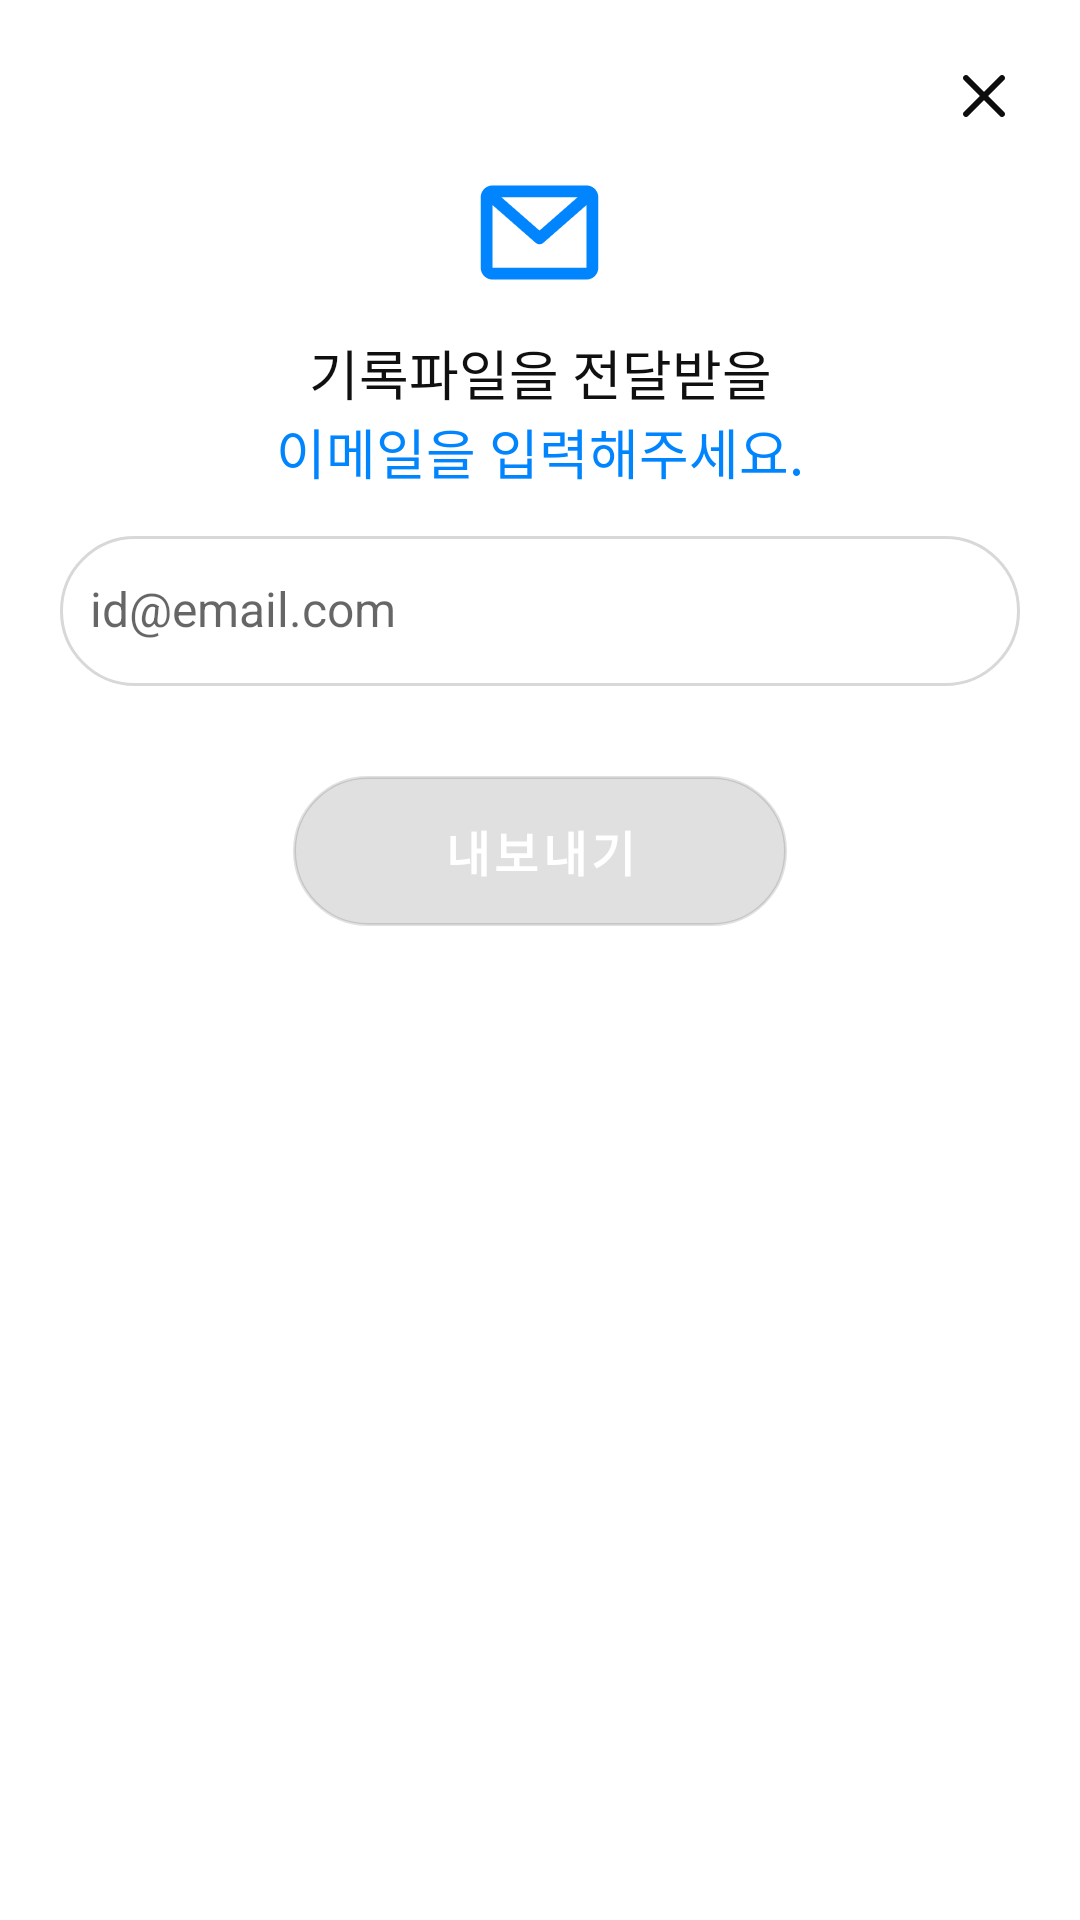

Where icons sit on this 1080px×1920px app screen, as (x1, y1, x2, y2):
close: (963, 75, 1005, 117)
email dr: (480, 185, 599, 280)
